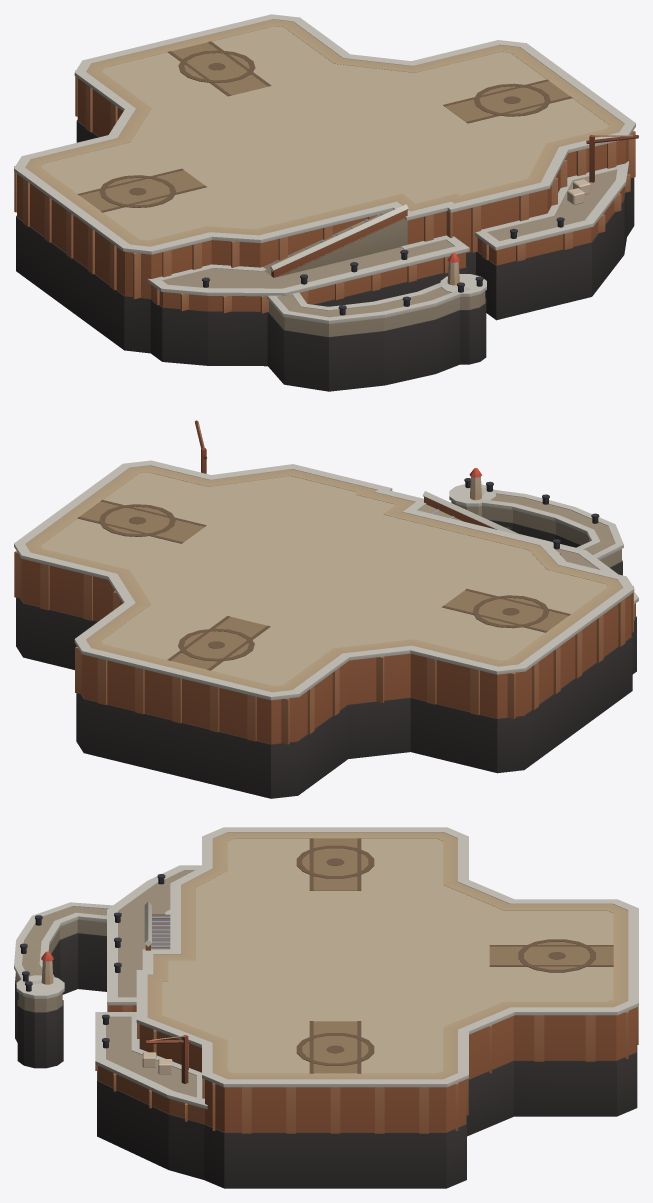
The model's file is free-port-body.glb.
3 views of the same model, one above another, from view 1: azimuth 30°, elevation 25°; view 2: azimuth 150°, elevation 25°; view 3: azimuth 270°, elevation 25° (orthographic). The views are drawn at different scales.
Visible parts, largest first — view 1: body; view 2: body; view 3: body.
Part boxes in pixels (x1,y1,x2,y2): body: [14, 14, 638, 391]; body: [14, 420, 638, 798]; body: [14, 827, 638, 1188].
Size of the model in its own units: 30.68 by 7.3 by 31.59.
